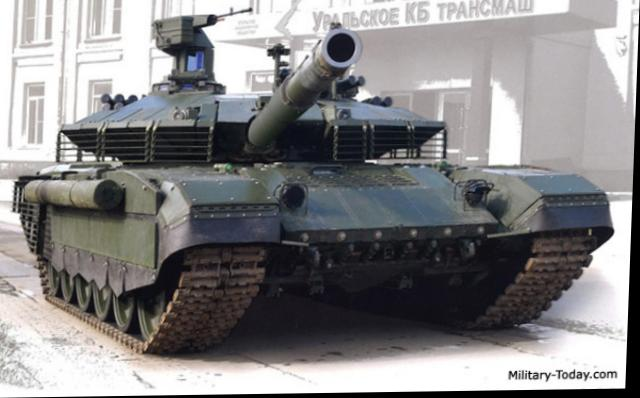tank: (19, 26, 610, 339)
